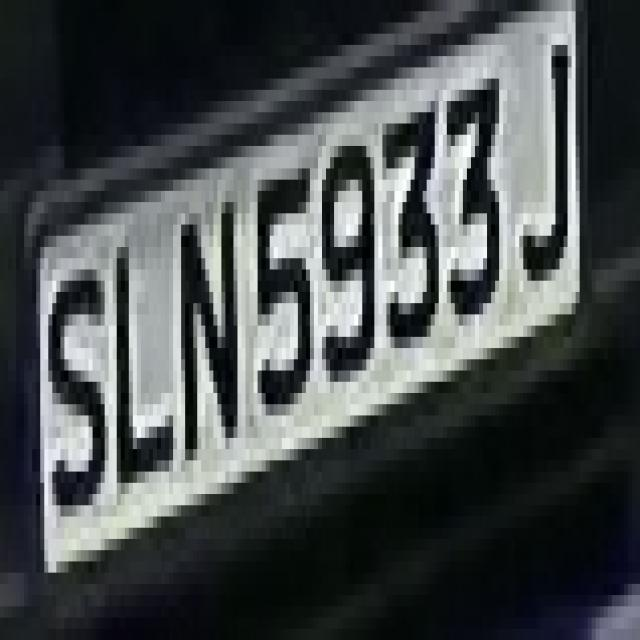3: (362, 67, 443, 382), (427, 34, 507, 348)
5: (258, 135, 310, 415)
9: (314, 124, 386, 416)
J: (507, 34, 584, 314)
L: (105, 191, 185, 550)
N: (169, 157, 258, 472)
S: (40, 224, 105, 562)
